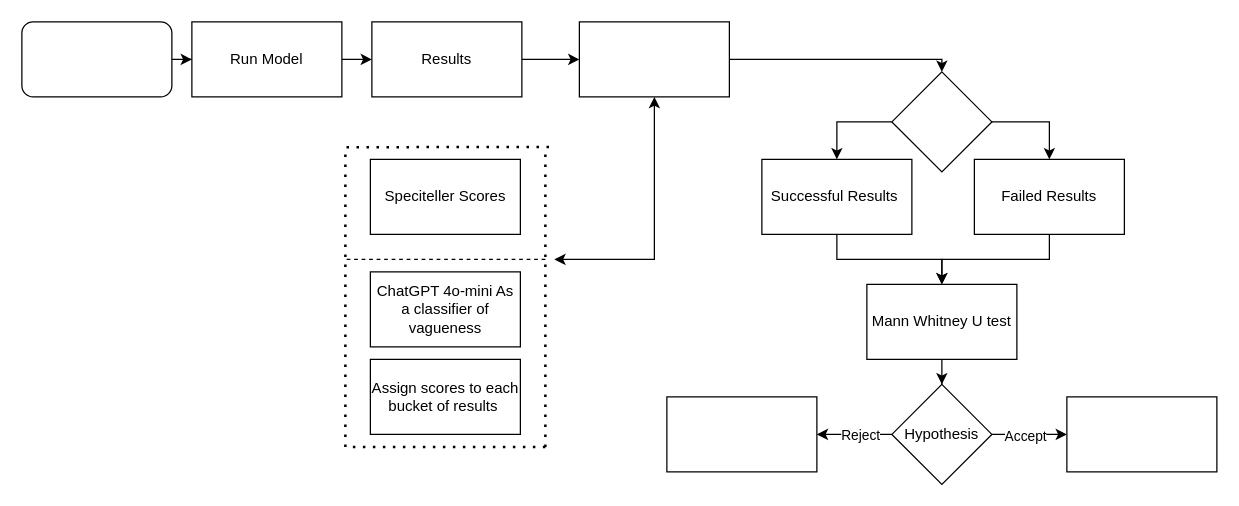
Image size: 1239x506. Some labels were removed from this diagram. Each missing label, with the box of its shape:
False: (666, 396, 817, 472)
Get Specificity Scores: (578, 21, 729, 97)
Models perform better with specific prompts: (1066, 396, 1217, 472)
Split Results: (891, 71, 992, 172)
Test Data: (21, 21, 172, 97)
